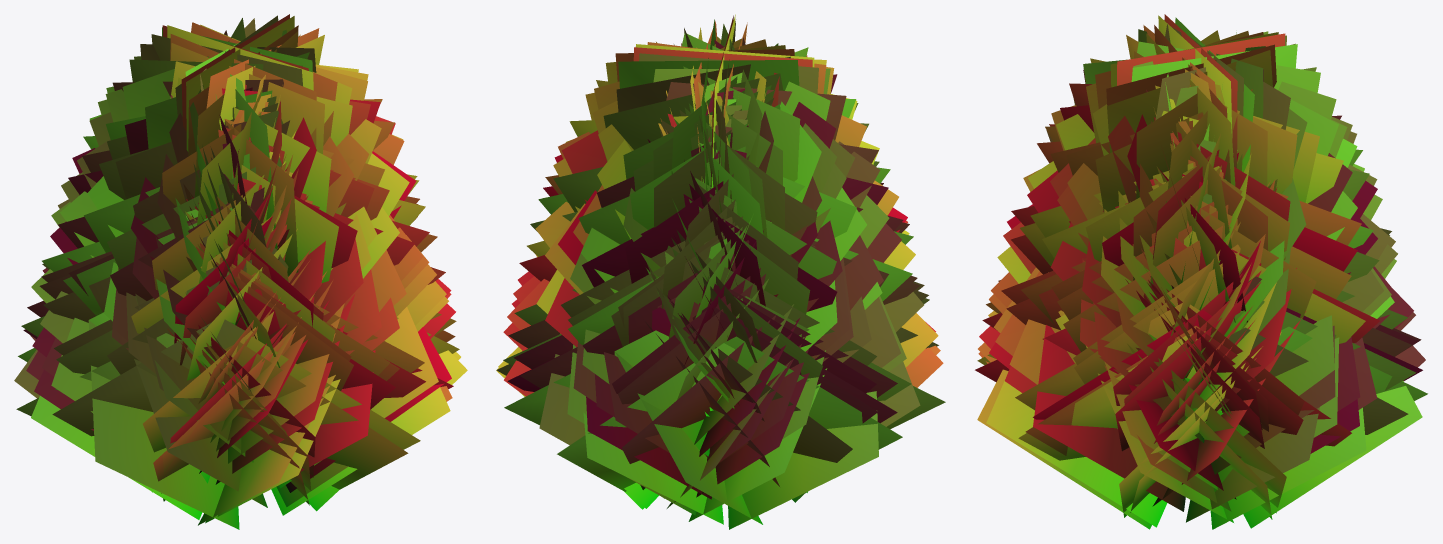
File: URP_P4_Tree_6_LOD_0.fbx
3 views of the same model, side by side, from view 1: azimuth 30°, elevation 25°; view 2: azimuth 150°, elevation 25°; view 3: azimuth 270°, elevation 25° (orthographic).
Visible parts, largest first — view 1: Tree_6_LOD_0; view 2: Tree_6_LOD_0; view 3: Tree_6_LOD_0.
Boxes of the visible parts, <box> form: Tree_6_LOD_0: <box>14,14,467,529</box>; Tree_6_LOD_0: <box>496,14,945,529</box>; Tree_6_LOD_0: <box>975,14,1427,529</box>.
Size of the model in its own units: 211 by 232 by 211.
